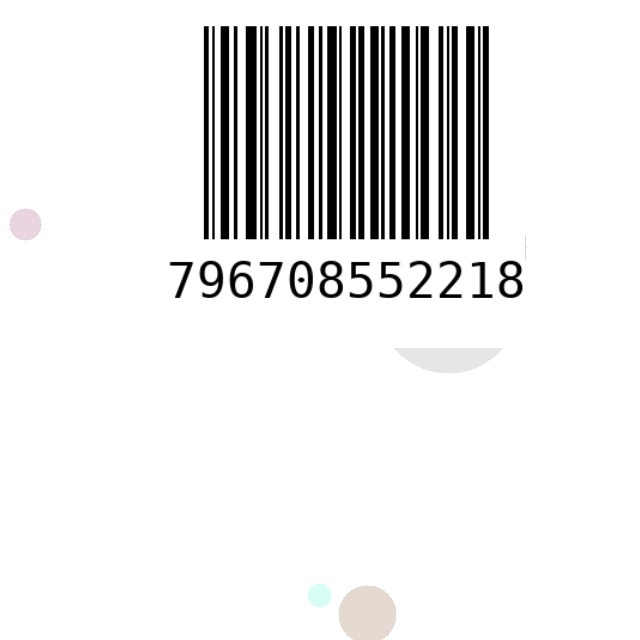barcode: (168, 13, 525, 348)
